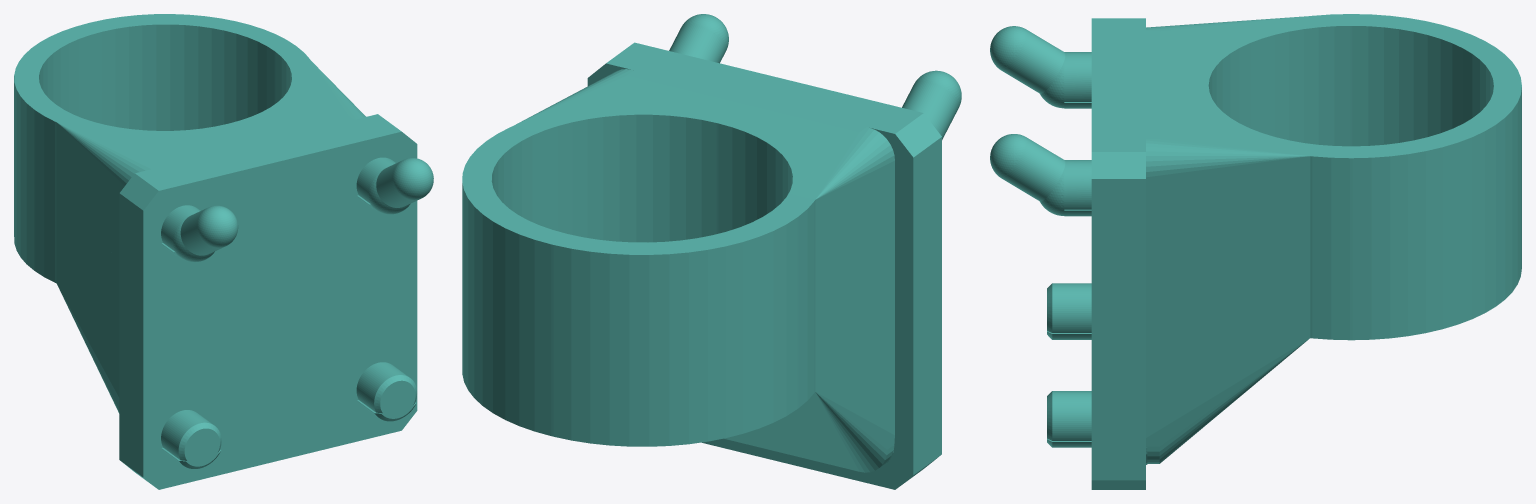
3 views of the same model, side by side, from view 1: azimuth 30°, elevation 25°; view 2: azimuth 150°, elevation 25°; view 3: azimuth 270°, elevation 25° (orthographic). The views are drawn at different scales.
Visible parts, largest first — view 1: Actual holder mesh; view 2: Actual holder mesh; view 3: Actual holder mesh.
Boxes of the visible parts, <box> form: Actual holder mesh: <box>14,14,433,489</box>; Actual holder mesh: <box>462,14,961,489</box>; Actual holder mesh: <box>990,14,1521,489</box>.
Bounding box in the file's own units: 0.0356 × 0.0374 × 0.053.
